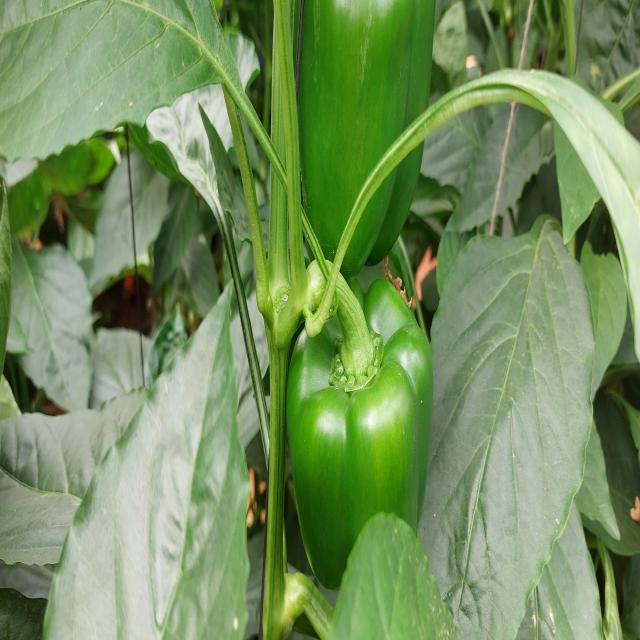Green--Not-ready-to-harvest: (286, 292, 434, 606), (290, 8, 433, 260)
